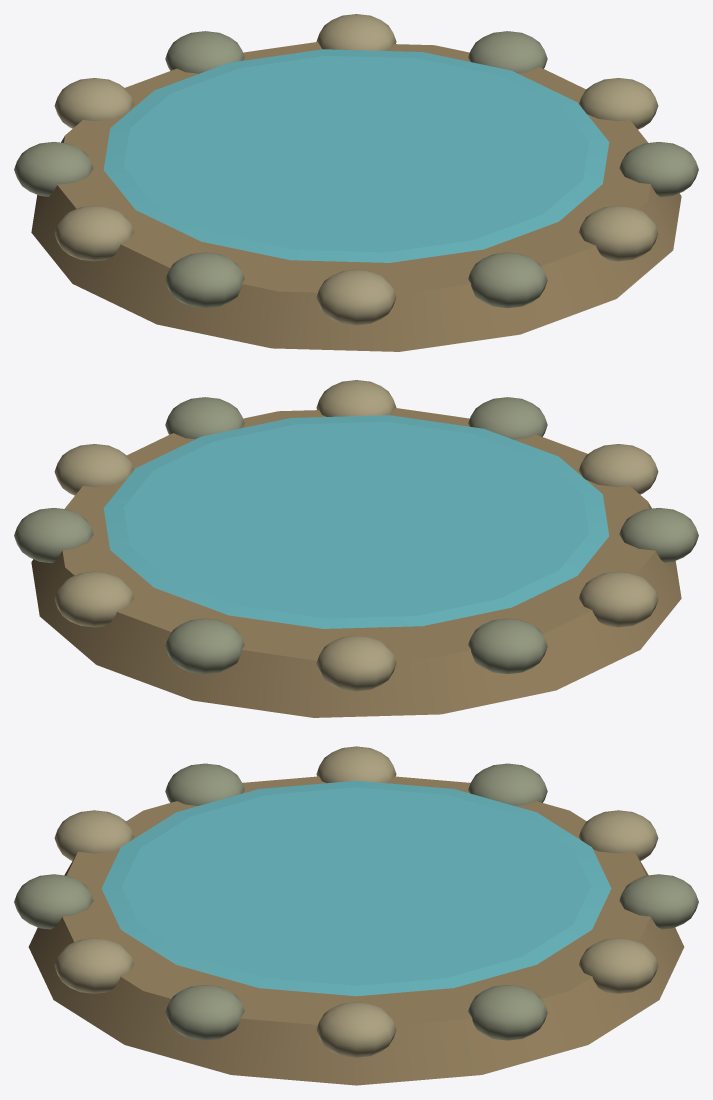
The model's file is fixture-elephant-pond-v01.glb.
The picture shows the model from 3 angles, top to bottom: view 1: azimuth 30°, elevation 25°; view 2: azimuth 150°, elevation 25°; view 3: azimuth 270°, elevation 25°; orthographic projection.
Visible parts, largest first — view 1: surface, post, merged-static (×2); view 2: surface, post, merged-static (×2); view 3: surface, post, merged-static (×2).
Boxes of the visible parts, x1,y1,x2,y2 form: surface: (103,49,609,262); post: (31,42,681,351); merged-static (×2): (14,14,698,325); surface: (103,415,609,628); post: (31,408,681,717); merged-static (×2): (14,380,698,691); surface: (101,780,611,996); post: (28,776,684,1085); merged-static (×2): (14,746,698,1057).
Size of the model in its own units: 0.94 by 0.111 by 0.94.
